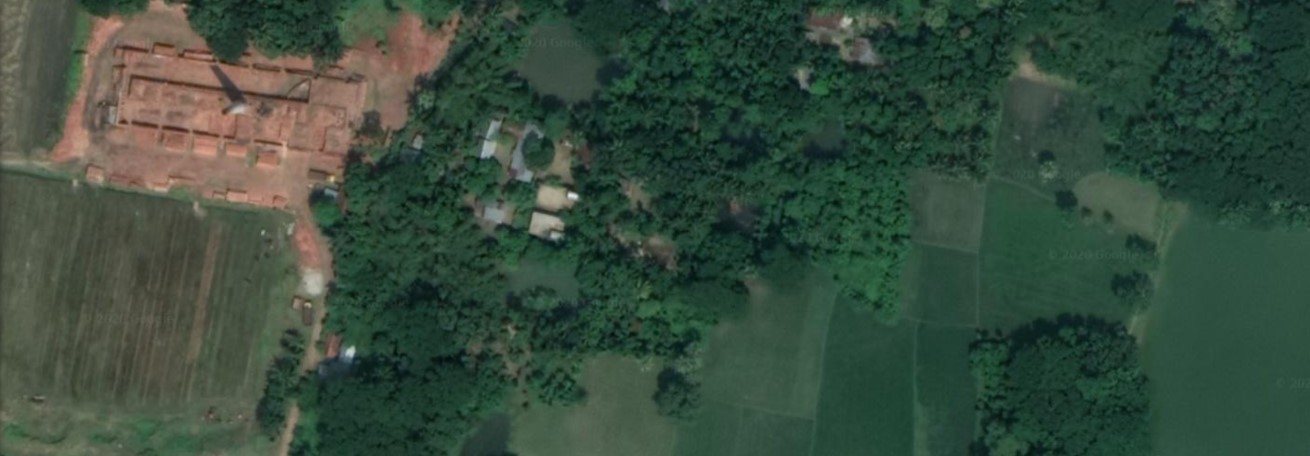kiln: (105, 59, 341, 163)
